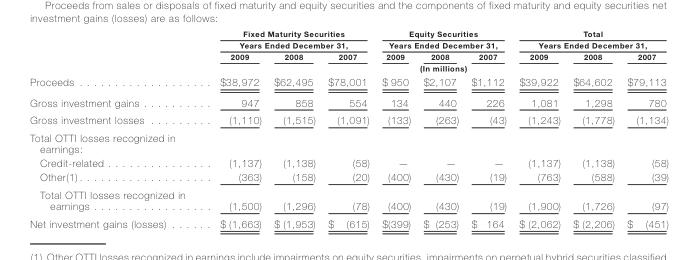table: (29, 28, 667, 229)
table column: (29, 28, 201, 229), (201, 28, 267, 229), (267, 28, 321, 229), (321, 28, 375, 229), (512, 28, 566, 229), (566, 28, 620, 229), (416, 28, 464, 229), (464, 28, 512, 229), (620, 28, 667, 229), (375, 28, 416, 229)
table column header: (29, 28, 667, 74)
table projected row header: (29, 128, 667, 155)
table row: (29, 185, 667, 214), (29, 128, 667, 155), (29, 28, 667, 50), (29, 74, 667, 92), (29, 92, 667, 110), (29, 110, 667, 128), (29, 169, 667, 185), (29, 214, 667, 229), (29, 155, 667, 169), (29, 61, 667, 74), (29, 50, 667, 61)
table spanning cell: (201, 61, 667, 74), (201, 28, 375, 50), (512, 28, 667, 50), (375, 28, 512, 50)
